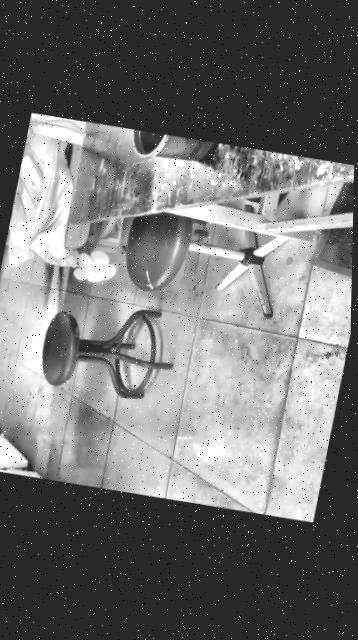pot: (128, 127, 224, 170)
